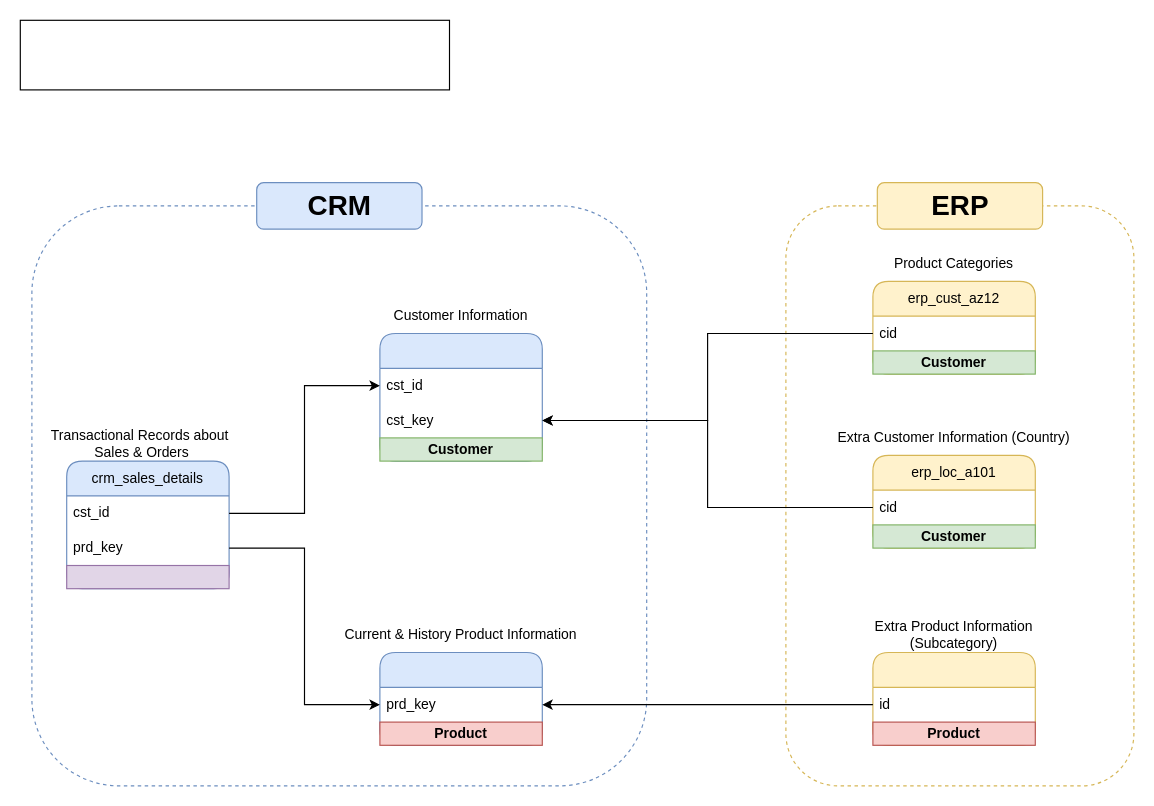
Some shapes in this 1154 by 806 pixel diagram are drawn without their labels. The shapes that lost their labels are listed below. From the top down, each one's box as (x1, y1, x2, y2) in pixels, then its label:
(19, 19, 449, 90): Integration Mode l (how the tables are related)
(379, 332, 542, 461): crm_cust_info
(66, 564, 229, 589): Sales
(379, 651, 542, 745): crm_prd_info
(872, 651, 1035, 745): erp_px_cat_g1v2
